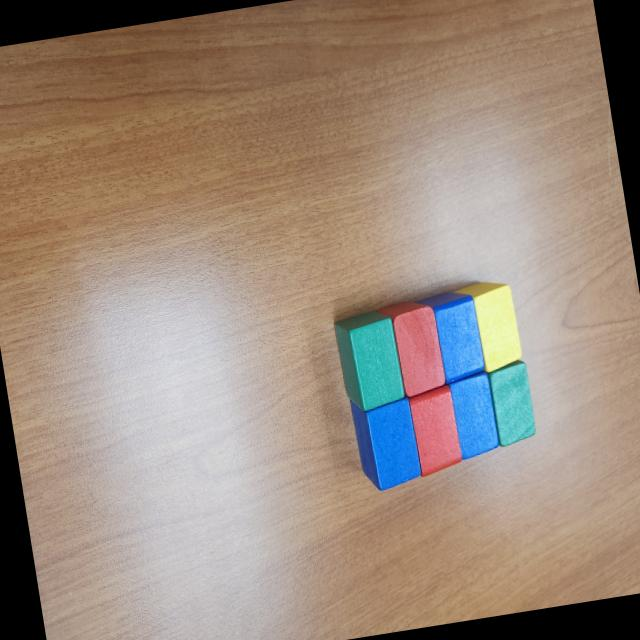blue: (349, 392, 424, 494), (412, 288, 487, 389), (448, 370, 502, 461)
green: (332, 306, 410, 414), (485, 356, 539, 448)
red: (374, 298, 446, 400), (407, 384, 465, 478)
yellow: (456, 276, 524, 374)
